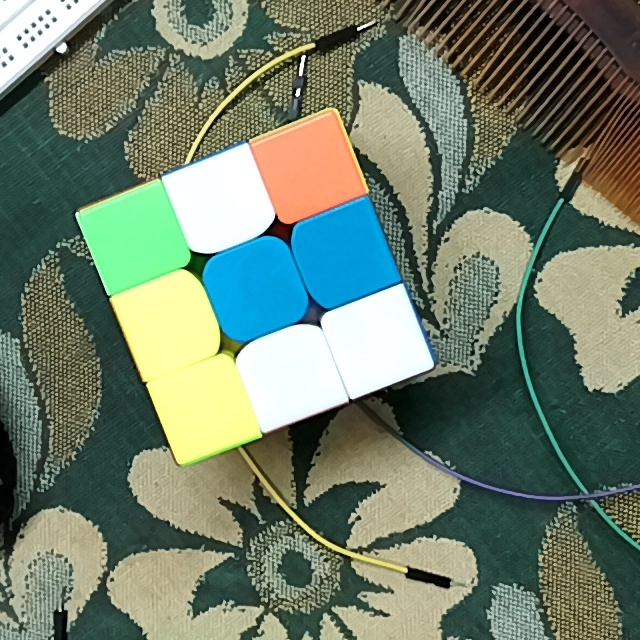tile: (275, 134, 344, 201), (136, 290, 204, 356), (219, 259, 289, 323), (346, 309, 413, 375), (169, 374, 235, 440), (186, 174, 255, 237), (103, 204, 168, 270), (314, 221, 376, 289), (261, 343, 327, 406)
